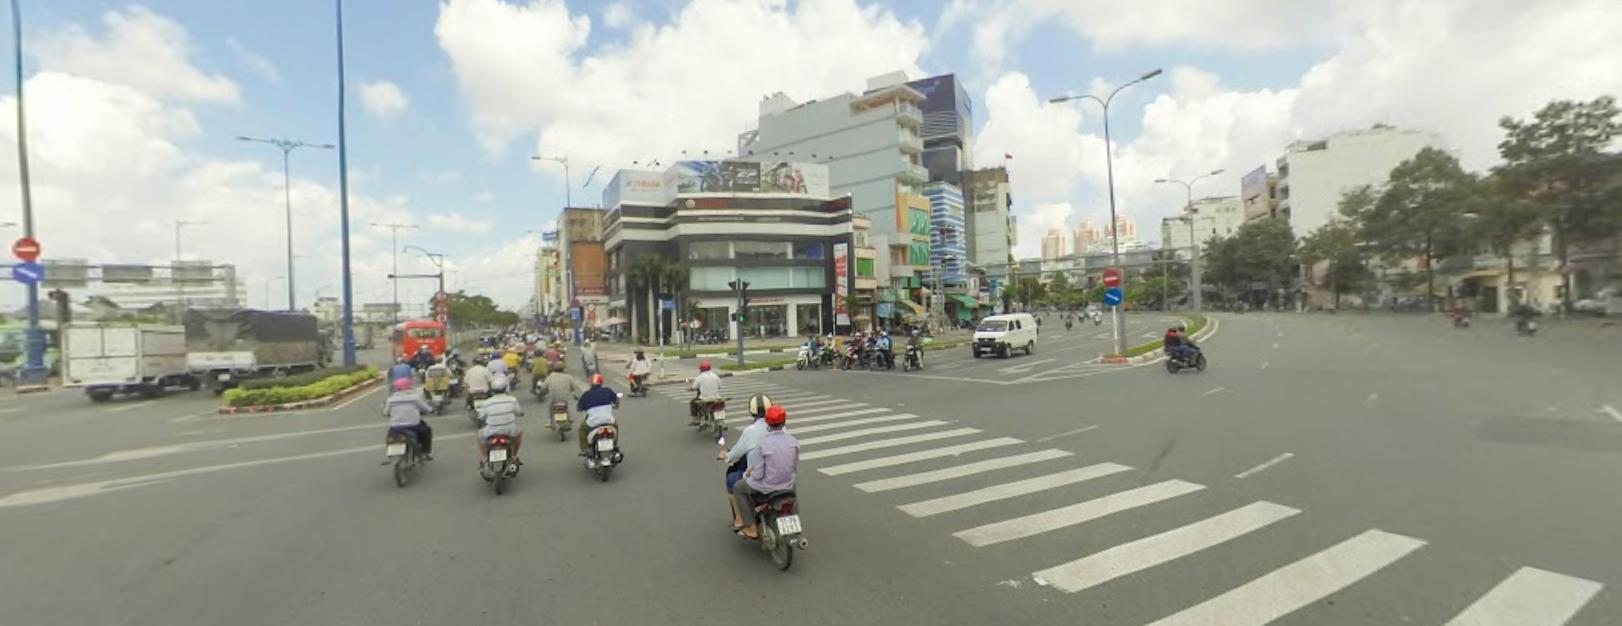Cam con lai: (434, 289, 446, 299), (435, 312, 448, 321), (435, 301, 446, 310), (587, 301, 594, 309)
Cam dung va do: (569, 297, 578, 304)
Cam nguoc chieu: (12, 235, 40, 257), (1103, 268, 1120, 284)
Hieu lenh: (12, 260, 42, 282), (1104, 286, 1122, 303)
